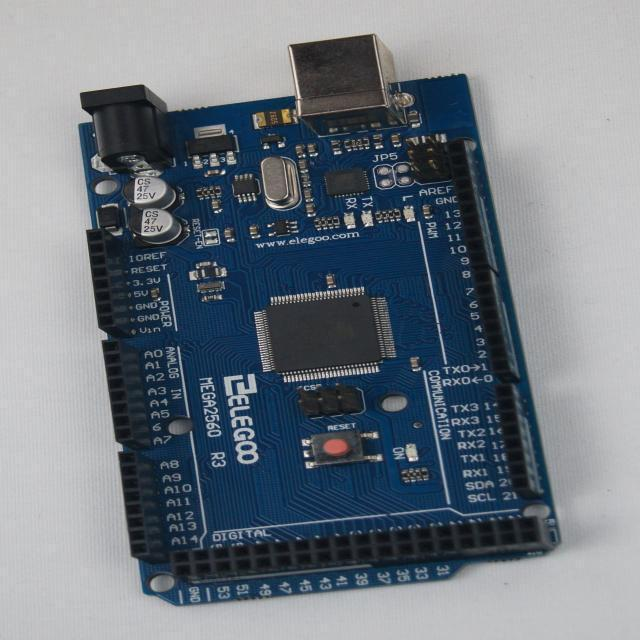Arduino Mega 2560 -Blue-: (80, 36, 559, 606)
